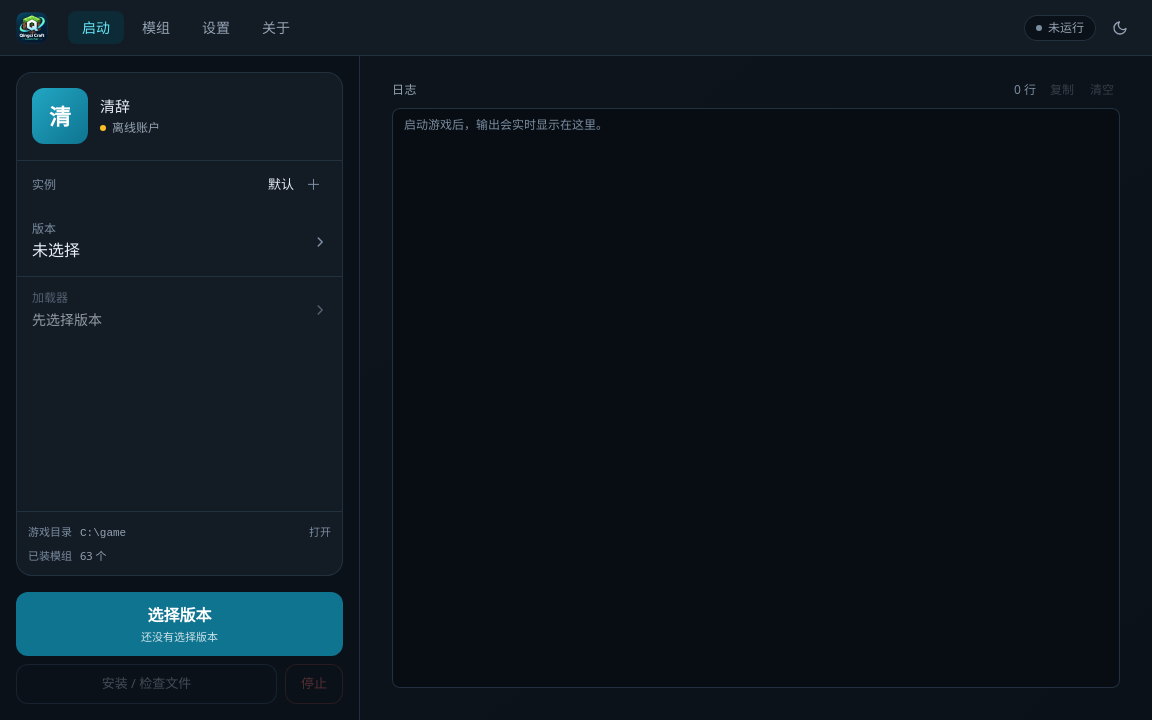
Test: LauncherView › 未选版本时主按钮是「选择版本」入口，点击打开选择器
Click the button "选择版本 还没有选择版本" at (180, 624), box [16,592,343,656]
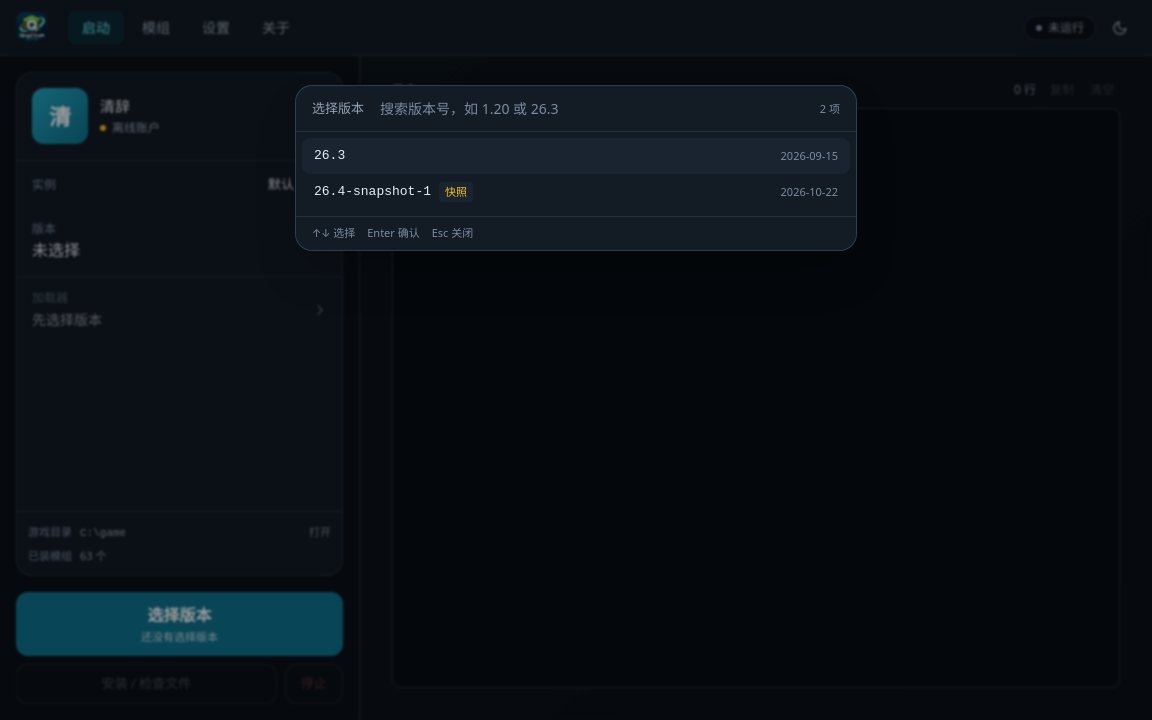
Expected: the field with placeholder "搜索版本号，如 1.20 或 26.3" is shown, [380,98,812,119]
